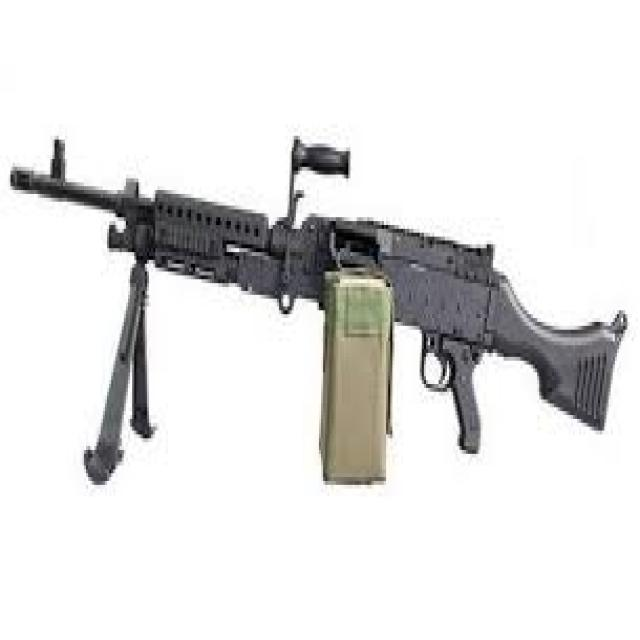Gun: (15, 133, 626, 549)
